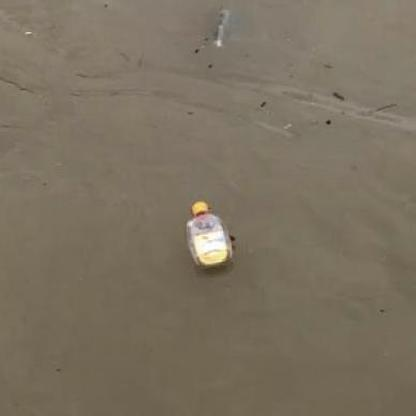plastic bottle: (186, 202, 232, 269)
